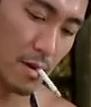smoke: (34, 64, 62, 98)
